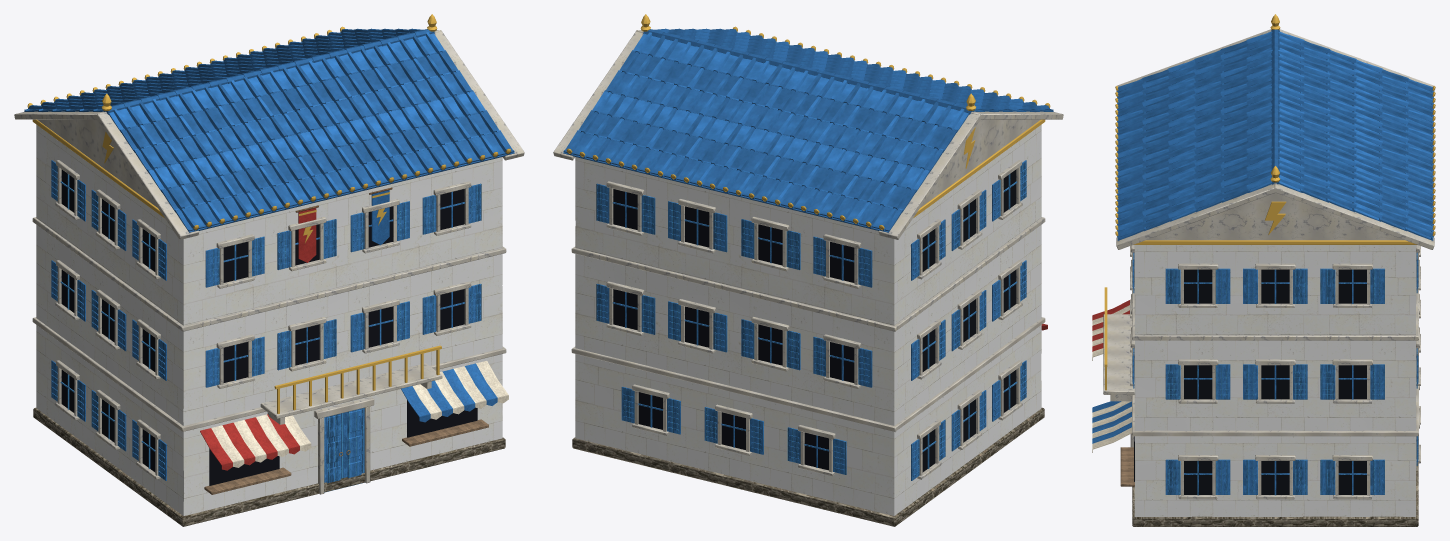
Rendered from home_insula_t3.glb.
The picture shows the model from 3 angles, left to right: view 1: azimuth 30°, elevation 25°; view 2: azimuth 150°, elevation 25°; view 3: azimuth 270°, elevation 25°; orthographic projection. The views are drawn at different scales.
Parts seen in each view (by area): view 1: hall, marble, azure1, azure0, azure_wood, azure2, dark, stone_dark, gold, cloth_cream, cloth_red, cloth_azure (+1 smaller); view 2: hall, marble, azure1, azure_wood, azure0, azure2, dark, stone_dark, gold; view 3: hall, marble, azure1, azure0, azure2, azure_wood, dark, stone_dark, gold, cloth_cream, cloth_azure, wood (+1 smaller).
Part boxes in pixels (x1,y1,x2,y2): hall: (36, 124, 502, 515); marble: (14, 30, 524, 494); azure1: (24, 28, 514, 231); azure0: (24, 28, 514, 232); azure_wood: (51, 160, 481, 492); azure2: (38, 28, 500, 224); dark: (61, 169, 477, 485); stone_dark: (33, 407, 505, 526); gold: (27, 14, 511, 413); cloth_cream: (211, 361, 508, 467); cloth_red: (200, 208, 316, 470); cloth_azure: (371, 190, 497, 422); hall: (575, 124, 1041, 515); marble: (553, 30, 1063, 479); azure1: (563, 28, 1053, 231); azure_wood: (596, 160, 1026, 480); azure0: (563, 28, 1053, 232); azure2: (577, 28, 1039, 224); dark: (613, 169, 1016, 472); stone_dark: (572, 407, 1044, 526); gold: (566, 14, 1050, 230); hall: (1134, 245, 1416, 516); marble: (1103, 29, 1434, 499); azure1: (1117, 29, 1433, 240); azure0: (1117, 38, 1433, 240); azure2: (1117, 31, 1433, 231); azure_wood: (1132, 252, 1418, 495); dark: (1134, 269, 1366, 494); stone_dark: (1132, 463, 1418, 526); gold: (1104, 14, 1435, 390); cloth_cream: (1092, 305, 1131, 452); cloth_azure: (1092, 401, 1131, 443); wood: (1120, 447, 1134, 486).
Size of the model in its own units: 10.8 by 11.38 by 9.77.
Materials: 15 (13 with a texture image).
